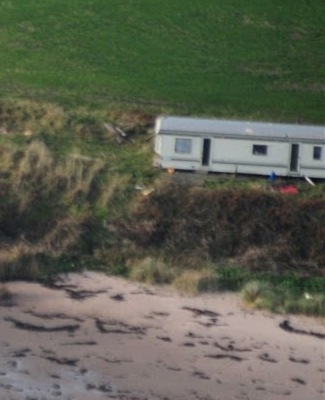scattered_barrel: (130, 164, 179, 201), (267, 168, 319, 198)
